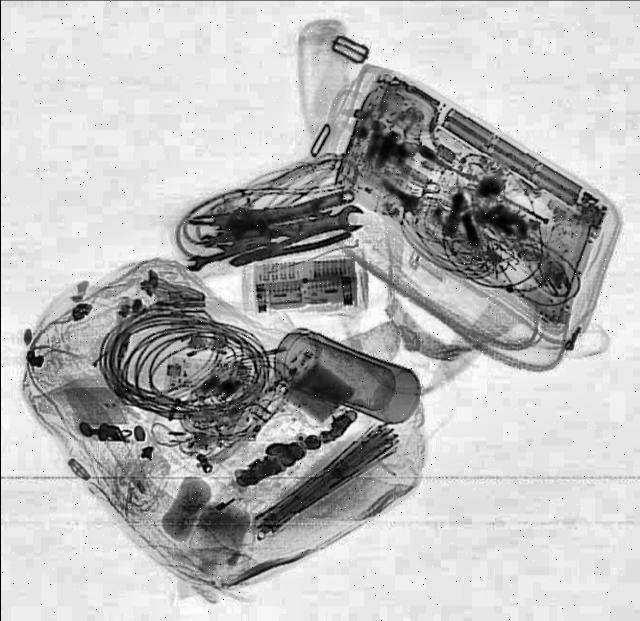Pliers: (228, 221, 354, 274)
Wrench: (278, 202, 368, 243), (182, 234, 264, 274)
